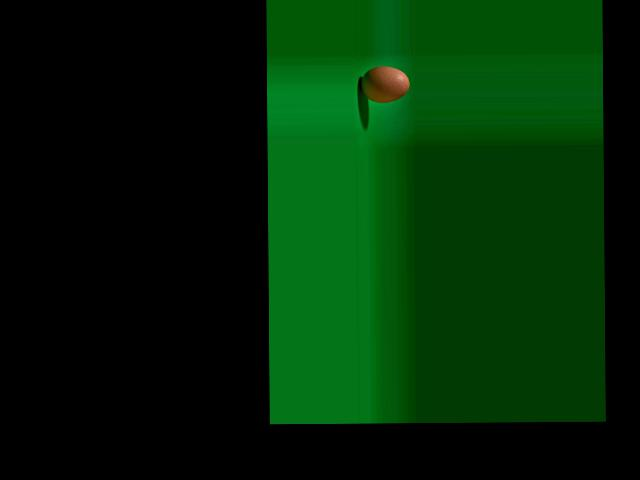egg: (360, 66, 409, 103)
